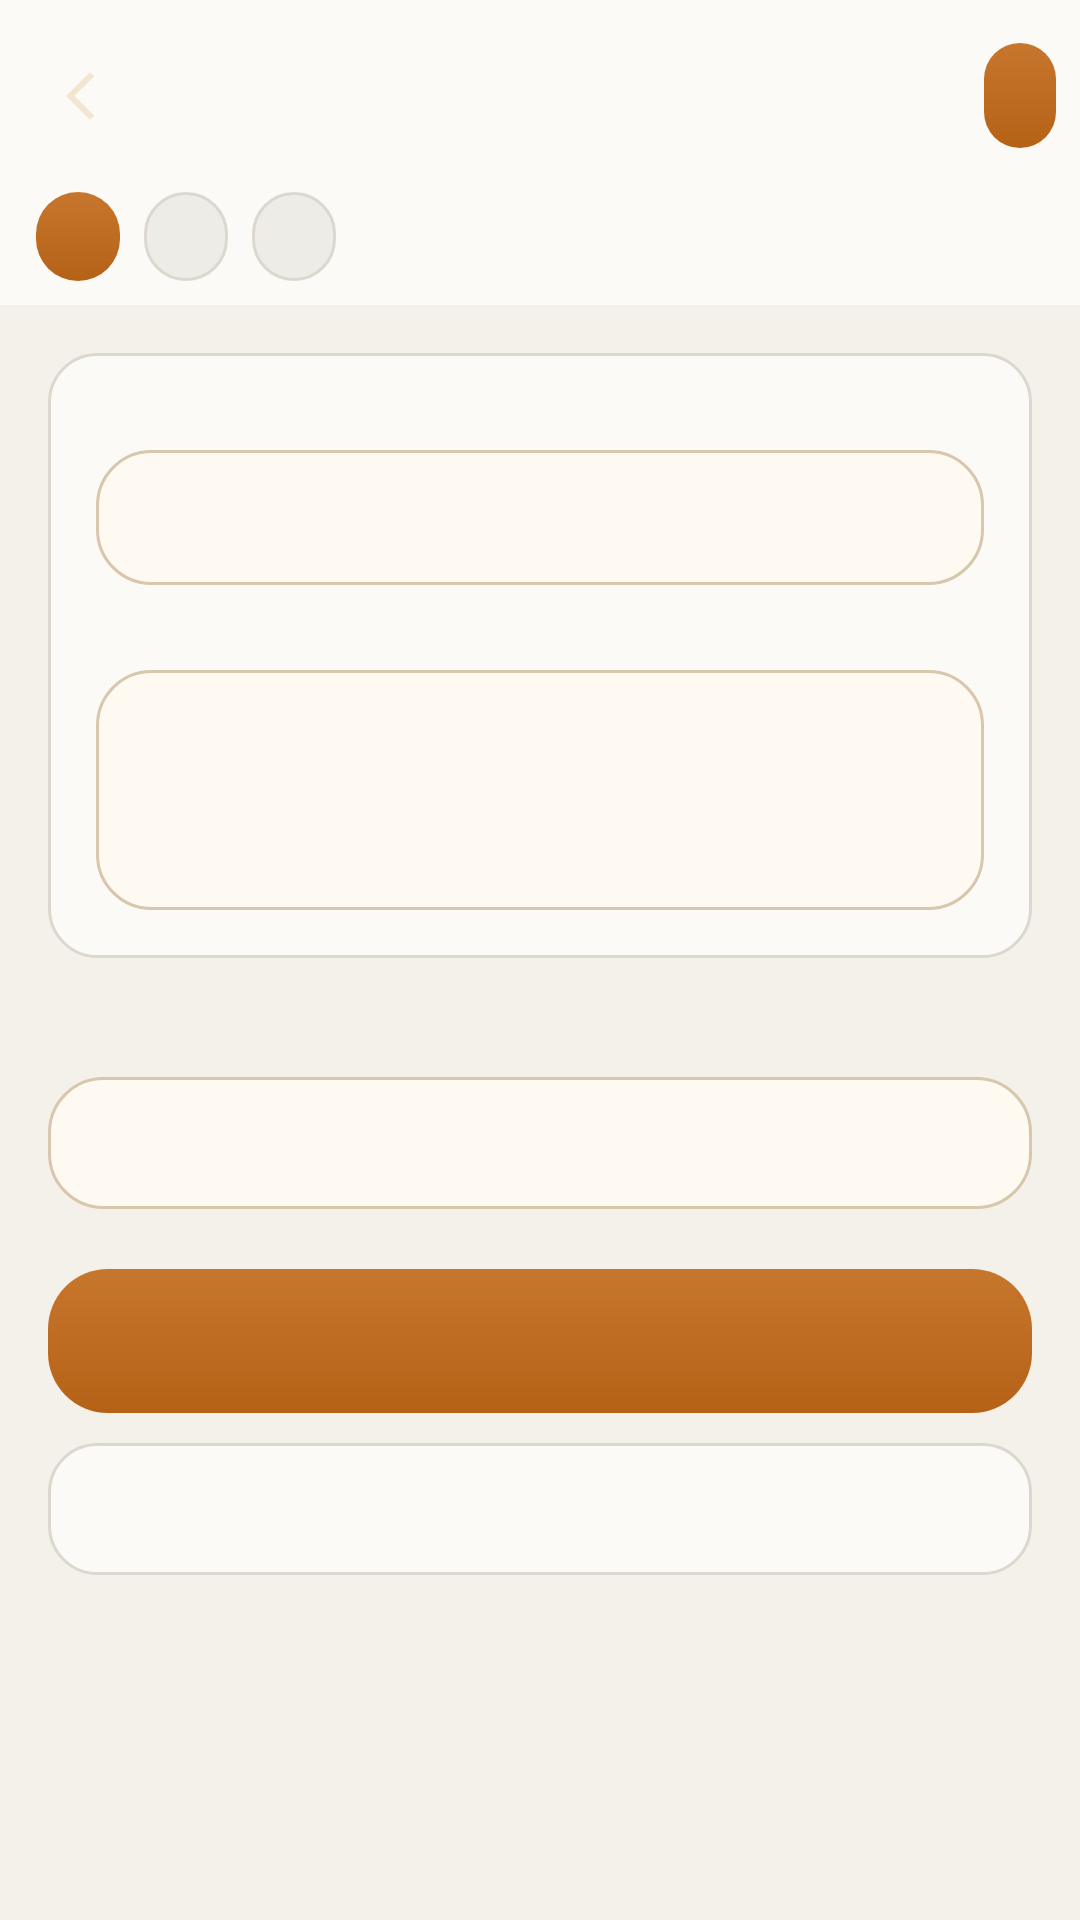

Named icons in this screenshot (1080*1920) and their centers, [x,y]:
back: [80,96]
